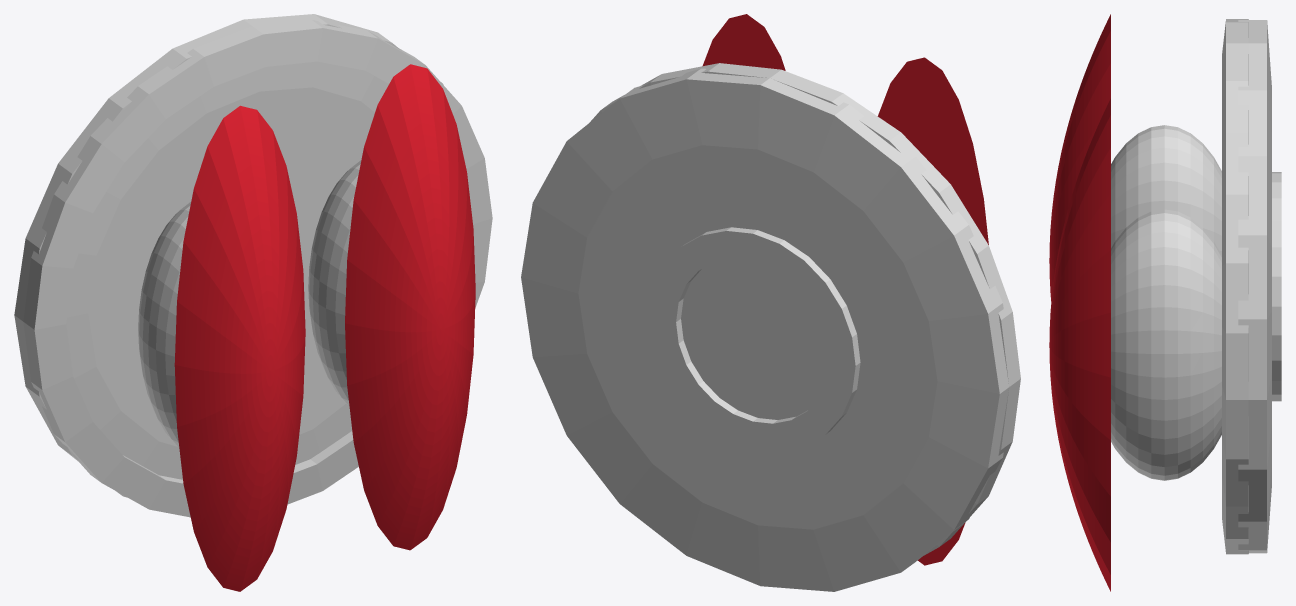
File: tinker.obj
3 renders of one model, left to right at view 1: azimuth 30°, elevation 25°; view 2: azimuth 150°, elevation 25°; view 3: azimuth 270°, elevation 25°, orthographic. The views are drawn at different scales.
Parts seen in each view (by area): view 1: group_0_16448250, group_0_15277357; view 2: group_0_16448250, group_0_15277357; view 3: group_0_16448250, group_0_15277357.
Part boxes in pixels (bbox=[...]): group_0_16448250: bbox=[14, 14, 492, 517]; group_0_15277357: bbox=[174, 64, 475, 591]; group_0_16448250: bbox=[521, 63, 1020, 591]; group_0_15277357: bbox=[702, 14, 988, 565]; group_0_16448250: bbox=[1111, 19, 1281, 554]; group_0_15277357: bbox=[1049, 14, 1110, 591].
Bounding box in the file's own units: 70 × 72.5 × 30.25.
